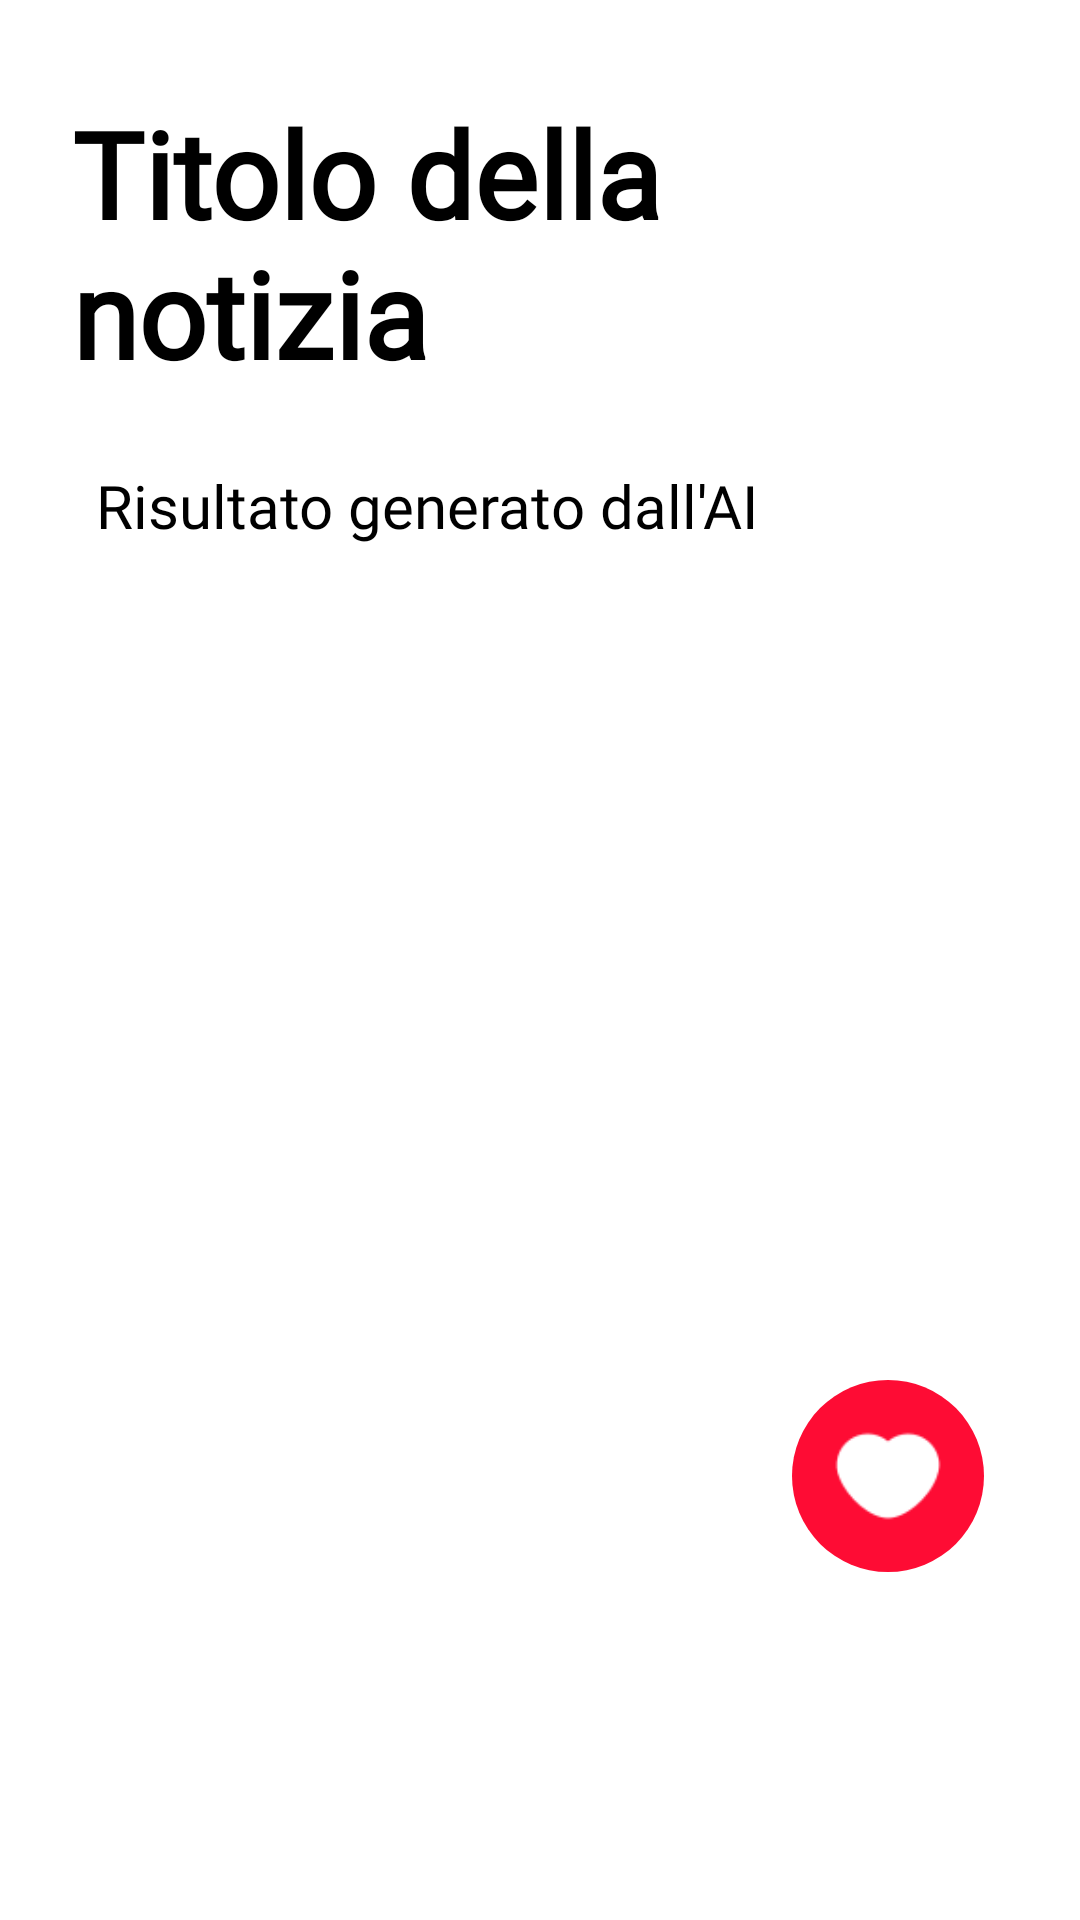

Icons on this 1080 × 1920 Android screen, each with the point to tap as [x,y]:
Mi Piace: [888,1476]
